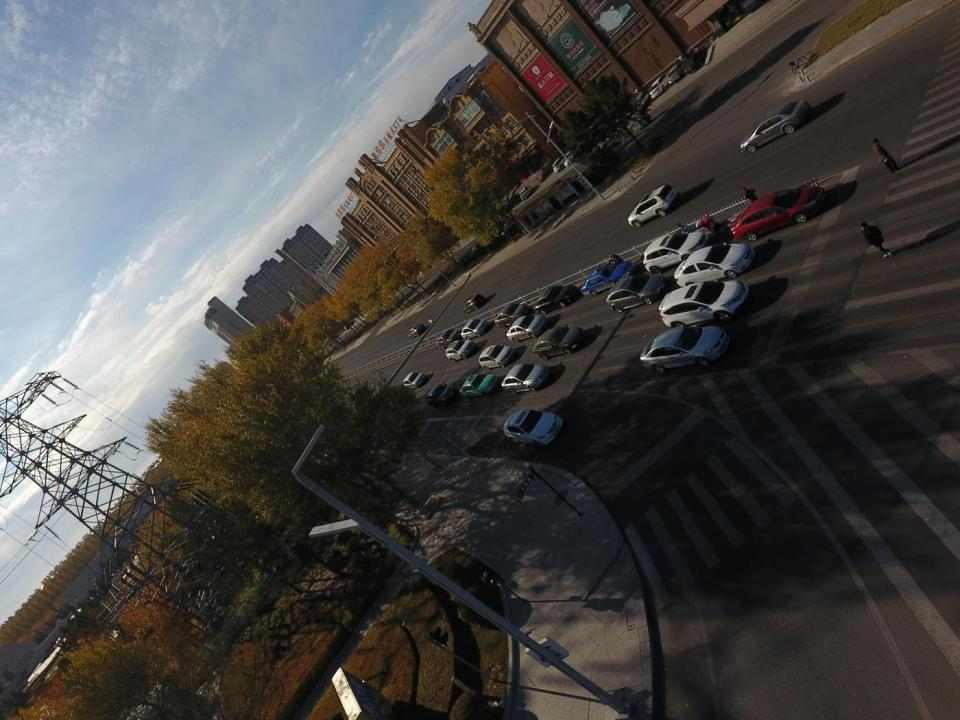car: (732, 185, 826, 242), (659, 279, 750, 328), (640, 326, 730, 372), (674, 242, 756, 287), (644, 231, 710, 274), (607, 274, 666, 314), (628, 184, 680, 229), (503, 409, 563, 446), (582, 261, 636, 296), (534, 326, 588, 361), (501, 363, 552, 397), (534, 284, 578, 314), (506, 314, 548, 344), (459, 374, 499, 401), (478, 346, 516, 371), (684, 45, 712, 75), (495, 302, 527, 328), (426, 384, 457, 409), (650, 71, 678, 97), (461, 318, 491, 342), (446, 339, 474, 363), (632, 87, 658, 112), (666, 61, 692, 84), (437, 329, 460, 351), (463, 294, 487, 314), (564, 142, 583, 167), (553, 152, 573, 173), (402, 372, 428, 388), (472, 235, 490, 255), (501, 215, 518, 236), (492, 220, 509, 239), (408, 322, 426, 338), (520, 186, 534, 200), (344, 320, 355, 329)
van: (508, 192, 520, 208)
